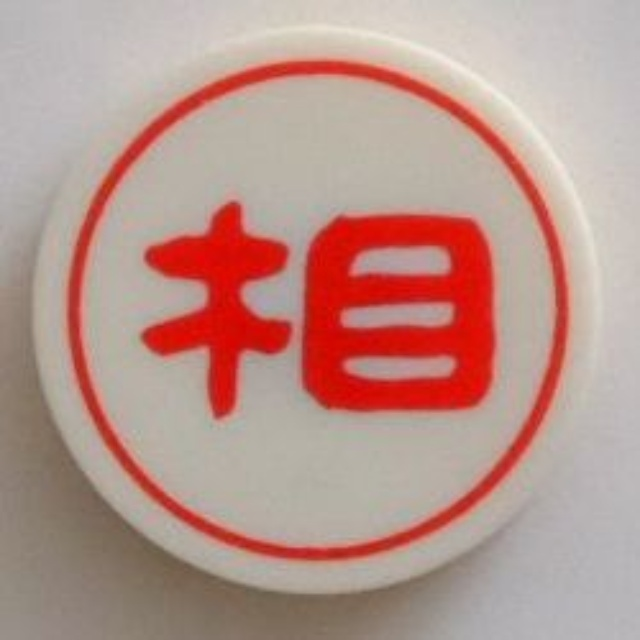red_bo: (31, 17, 619, 600)
